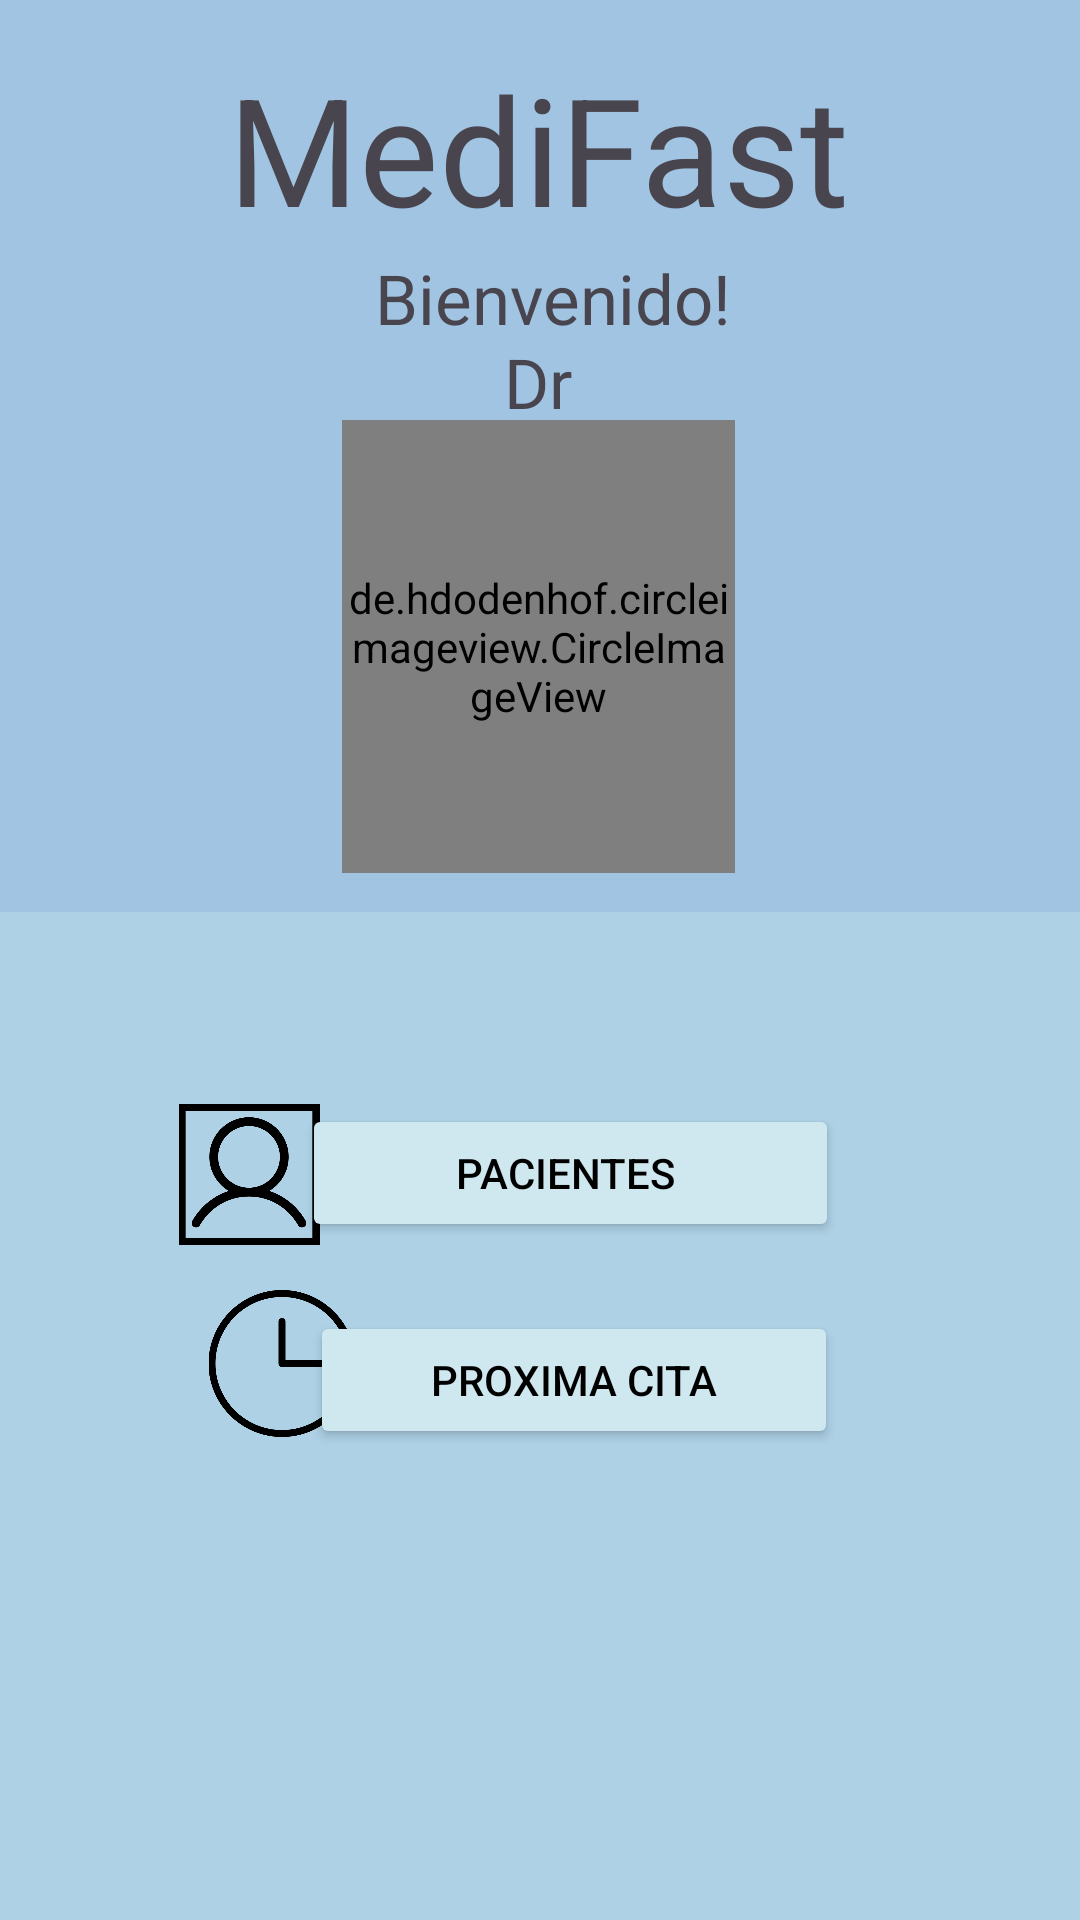

Named icons in this screenshot (1080w x 1920h) and their centers, (x=x, y=y):
phuser: (x=262, y=1174)
